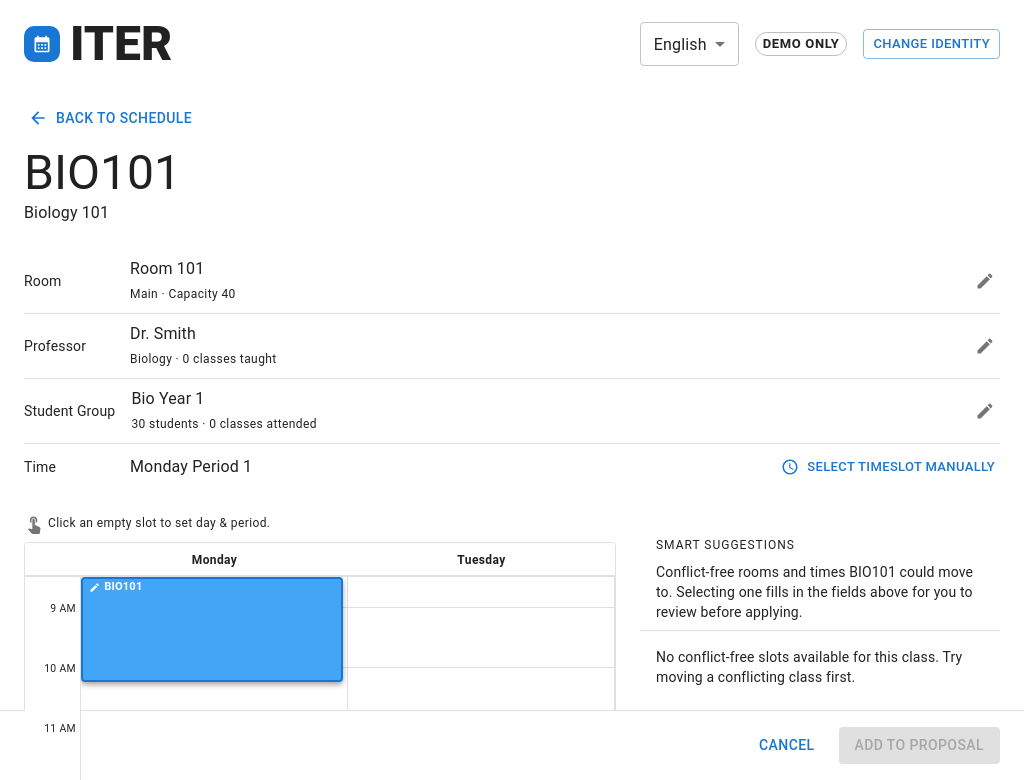
Scenario: EditClassPage › warns when the candidate time clashes with the newly selected room's existing booking
Click the button named "Change Room" at (985, 280), box [970, 266, 1000, 296]
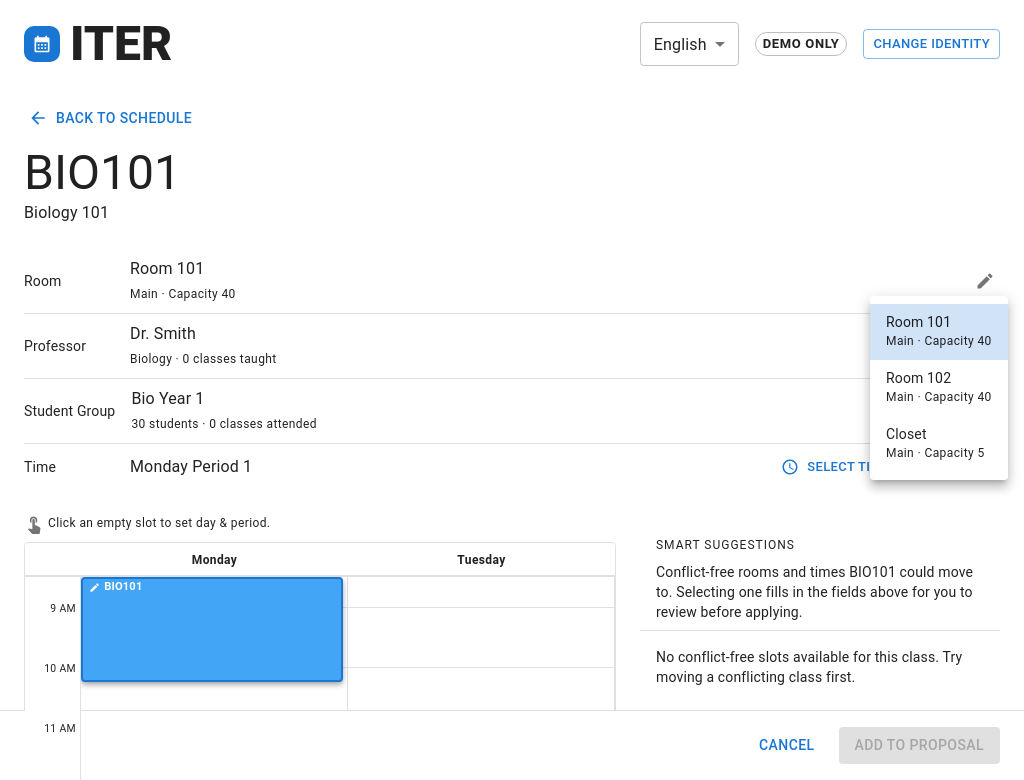
Click the menu item "Room 102 Main · Capacity 40" at (939, 387), box [886, 370, 992, 404]
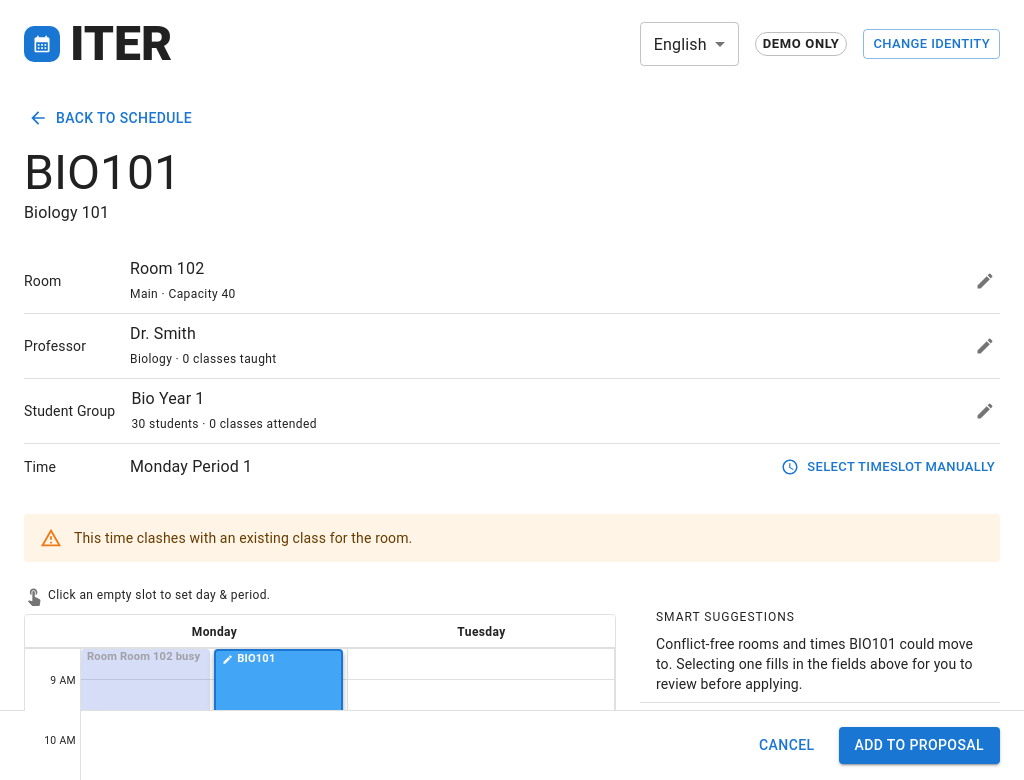
Result: the text "This time clashes with an existing class for the room." is shown at [74, 530, 412, 546]
